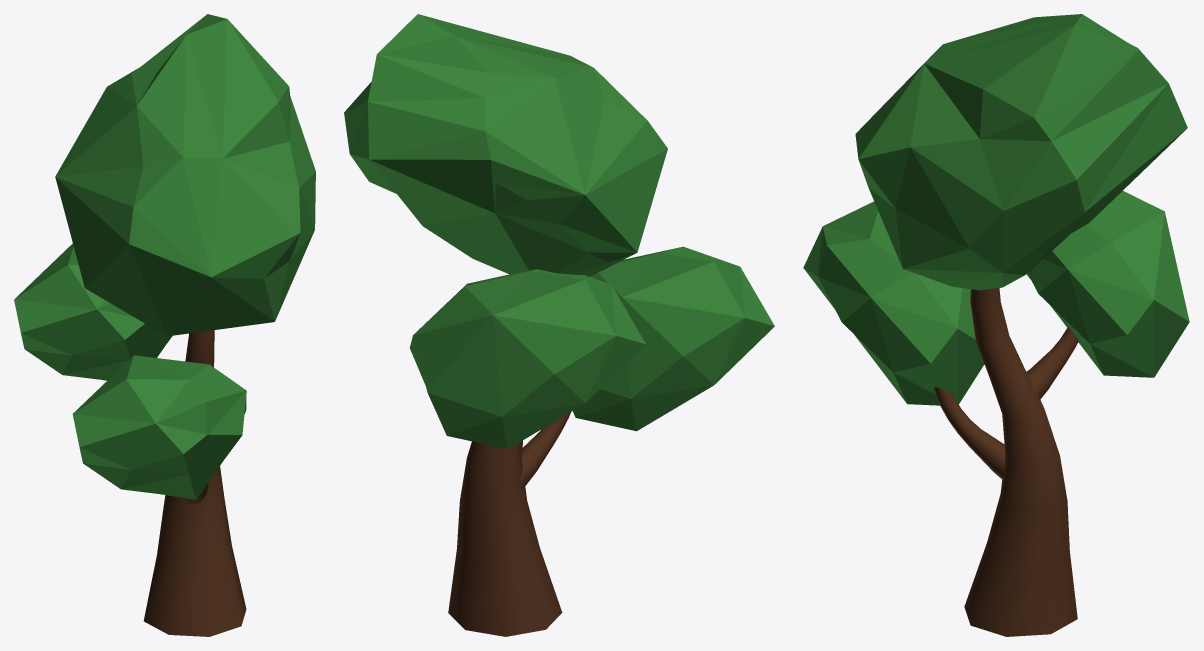
File: tree_3.obj
3 views of the same model, side by side, from view 1: azimuth 30°, elevation 25°; view 2: azimuth 150°, elevation 25°; view 3: azimuth 270°, elevation 25° (orthographic). The views are drawn at different scales.
Parts seen in each view (by area): view 1: tree_3 trees; view 2: tree_3 trees; view 3: tree_3 trees.
Boxes of the visible parts, x1=… form: tree_3 trees: x1=14, y1=14, x2=315, y2=636; tree_3 trees: x1=344, y1=14, x2=774, y2=636; tree_3 trees: x1=803, y1=14, x2=1189, y2=636.
Bounding box in the file's own units: 10.48 × 18.26 × 10.33.
